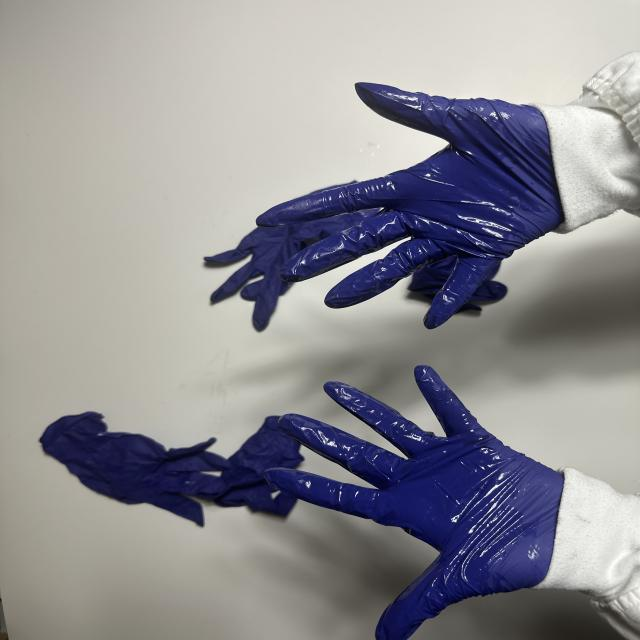gloves_contaminated: (266, 366, 564, 640), (257, 83, 562, 329)
